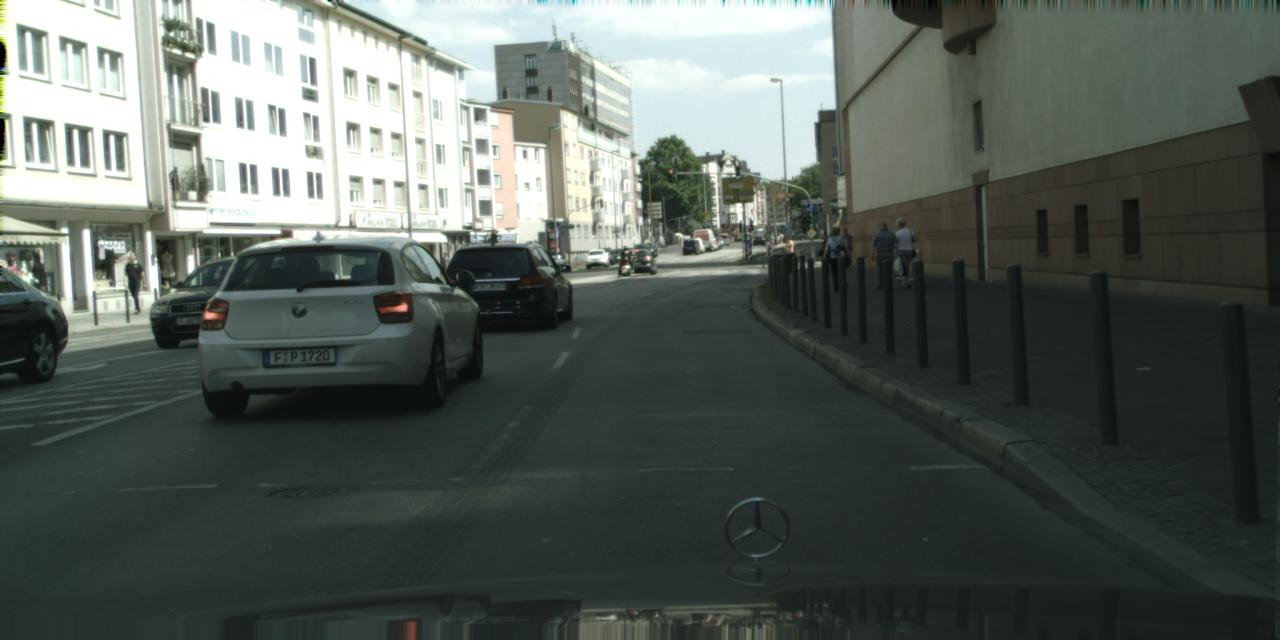ped: (890, 218, 918, 288), (869, 222, 897, 289), (824, 226, 850, 292), (122, 252, 148, 314), (836, 227, 852, 269), (818, 235, 833, 273), (438, 252, 452, 286), (783, 237, 796, 270), (764, 239, 776, 270), (620, 245, 630, 272), (777, 234, 784, 244), (632, 239, 636, 248), (770, 232, 774, 240)
